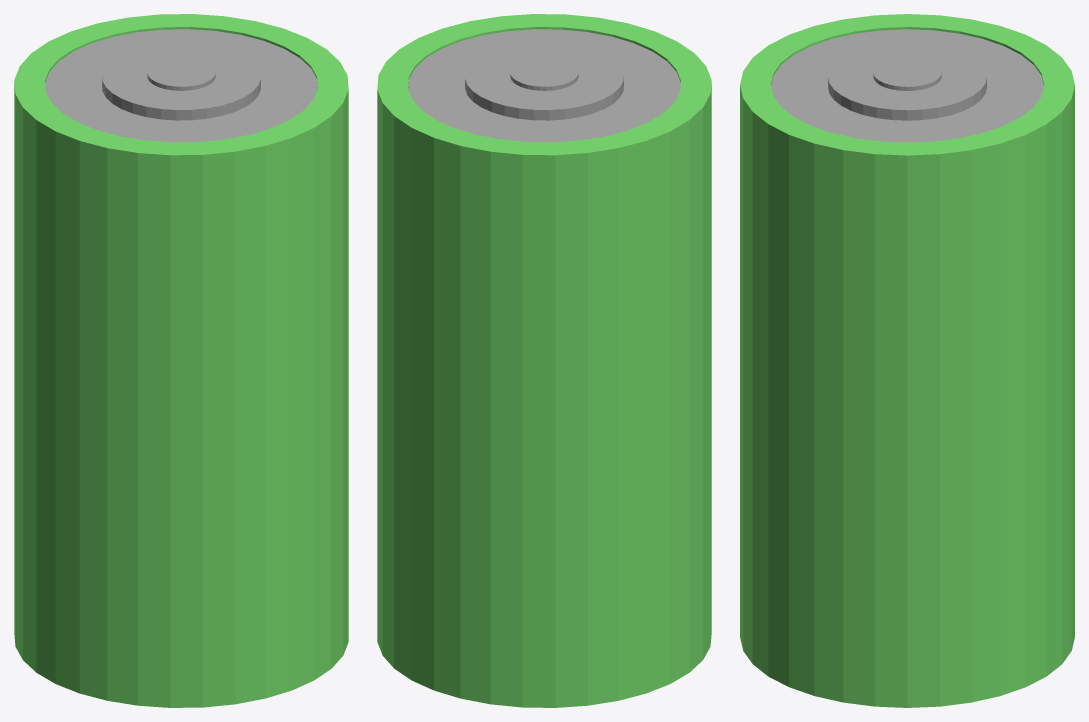
Rendered from Battery.fbx.
3 renders of one model, left to right at view 1: azimuth 30°, elevation 25°; view 2: azimuth 150°, elevation 25°; view 3: azimuth 270°, elevation 25°, orthographic.
Visible parts, largest first — view 1: Cylinder; view 2: Cylinder; view 3: Cylinder.
Part boxes in pixels (box(x1,y1,x2,y2)): Cylinder: box(14, 14, 348, 707); Cylinder: box(377, 14, 711, 707); Cylinder: box(740, 14, 1074, 707).
Bounding box in the file's own units: 17.96 × 33.41 × 17.96.
